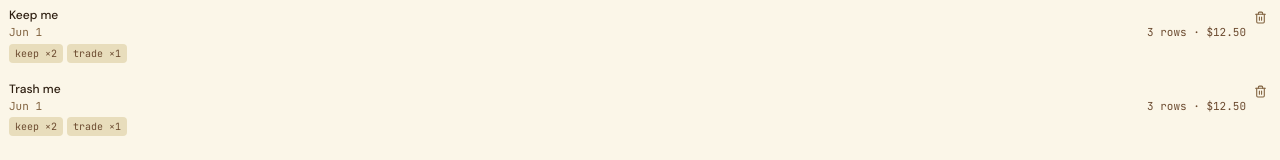
Test: LibrarySearchesTab › deletes a saved search after a two-step confirm and optimistically removes it
// First click reveals confirm rather than deleting.
Click the button named "Delete saved search Trash me" at (1260, 91), box [1250, 81, 1271, 102]
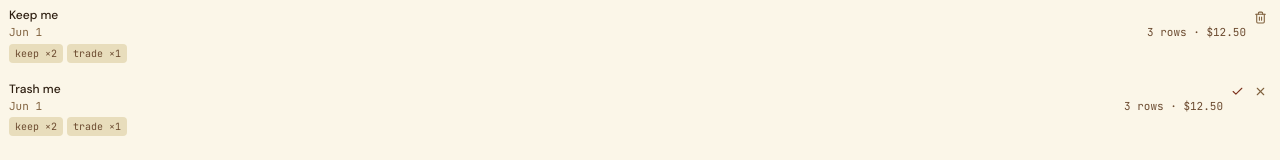
Click the button named "Confirm delete saved search Trash me" at (1238, 91), box [1227, 81, 1248, 102]
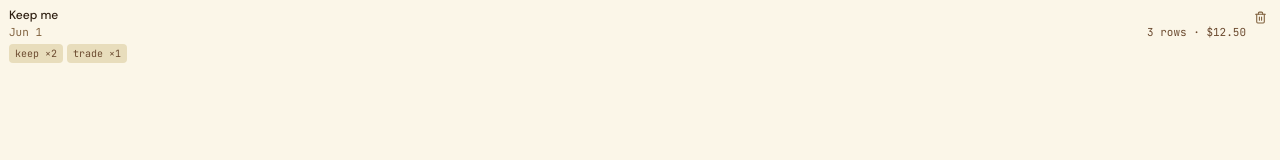
Check: the button "Trash me" is gone
